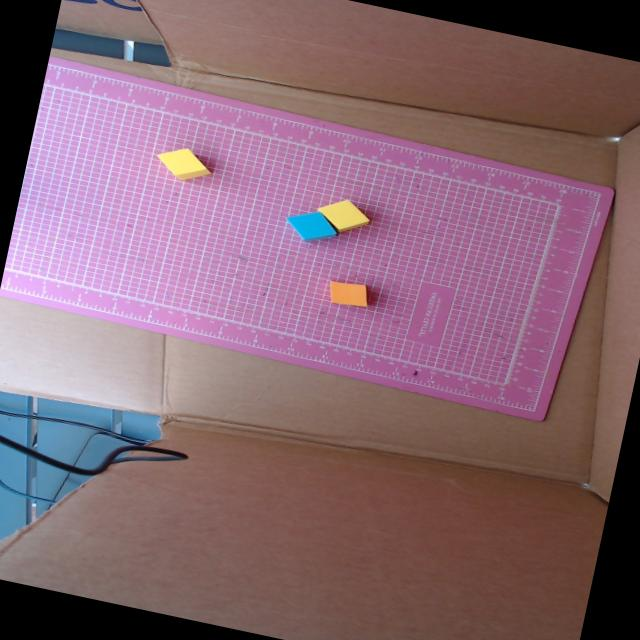bluecube: (286, 210, 338, 239)
orangecube: (330, 279, 368, 305)
yellowcube: (157, 147, 211, 180), (317, 199, 370, 231)
